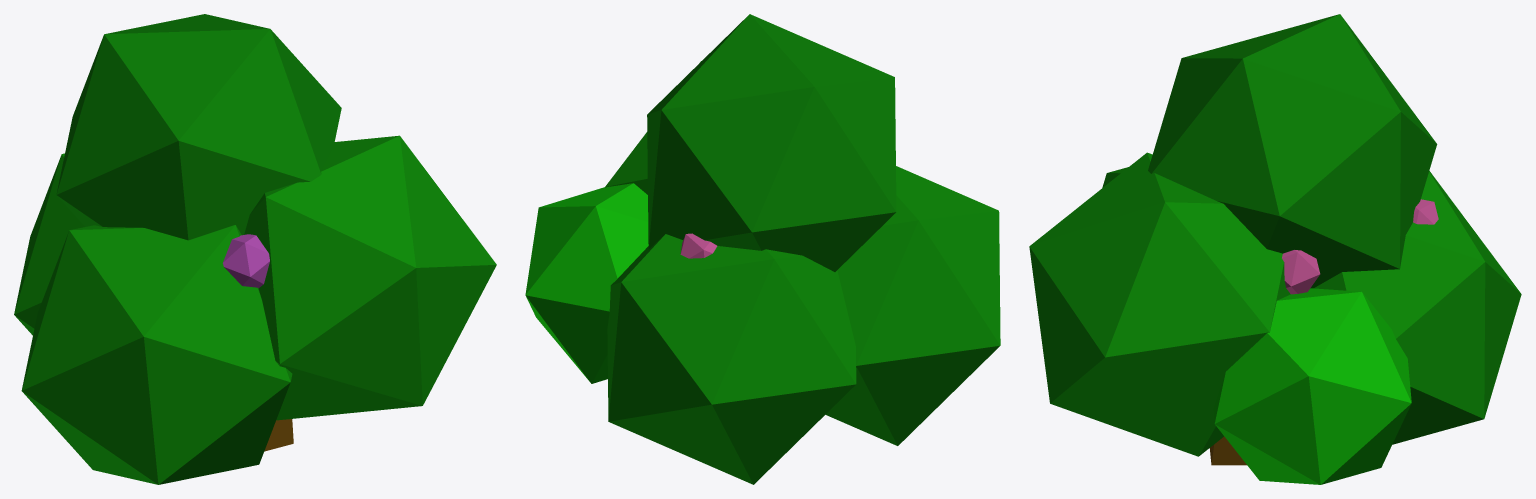
The model's file is livingbush2.fbx.
3 views of the same model, side by side, from view 1: azimuth 30°, elevation 25°; view 2: azimuth 150°, elevation 25°; view 3: azimuth 270°, elevation 25° (orthographic). The views are drawn at different scales.
Visible parts, largest first — view 1: Cube; view 2: Cube; view 3: Cube.
Boxes of the visible parts, x1,y1,x2,y2 form: Cube: (14,14,496,484); Cube: (525,14,1000,484); Cube: (1029,14,1521,484).
Size of the model in its own units: 188 by 164 by 180.
